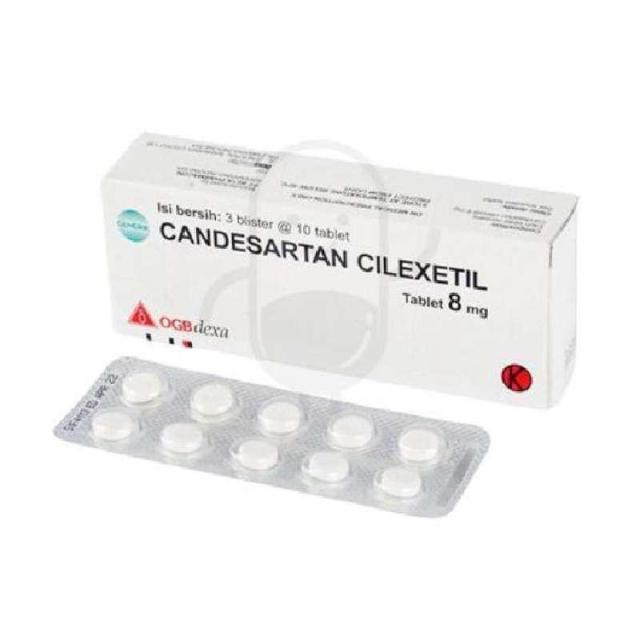drug-name: (155, 218, 497, 295)
